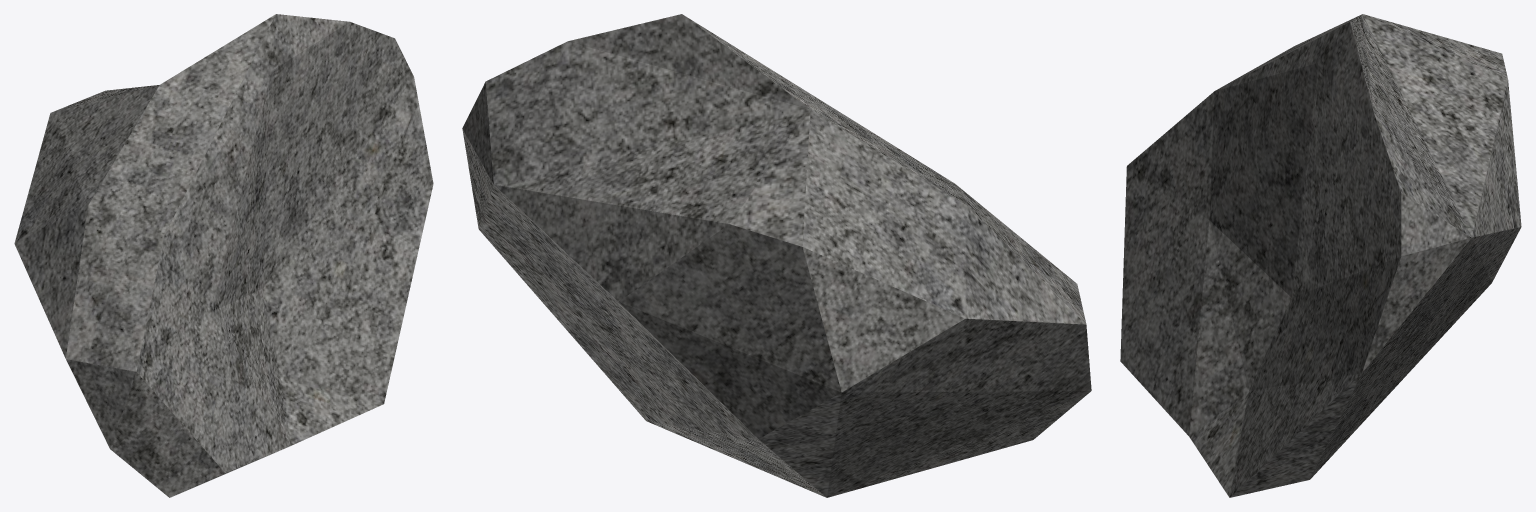
File: roccia_piccola_10.fbx
3 views of the same model, side by side, from view 1: azimuth 30°, elevation 25°; view 2: azimuth 150°, elevation 25°; view 3: azimuth 270°, elevation 25° (orthographic). The views are drawn at different scales.
Visible parts, largest first — view 1: roccia_piccola_10; view 2: roccia_piccola_10; view 3: roccia_piccola_10.
Part boxes in pixels (x1,y1,x2,y2): roccia_piccola_10: [14, 14, 433, 497]; roccia_piccola_10: [462, 14, 1091, 497]; roccia_piccola_10: [1120, 14, 1521, 497].
Size of the model in its own units: 23.07 by 18.82 by 15.36.
